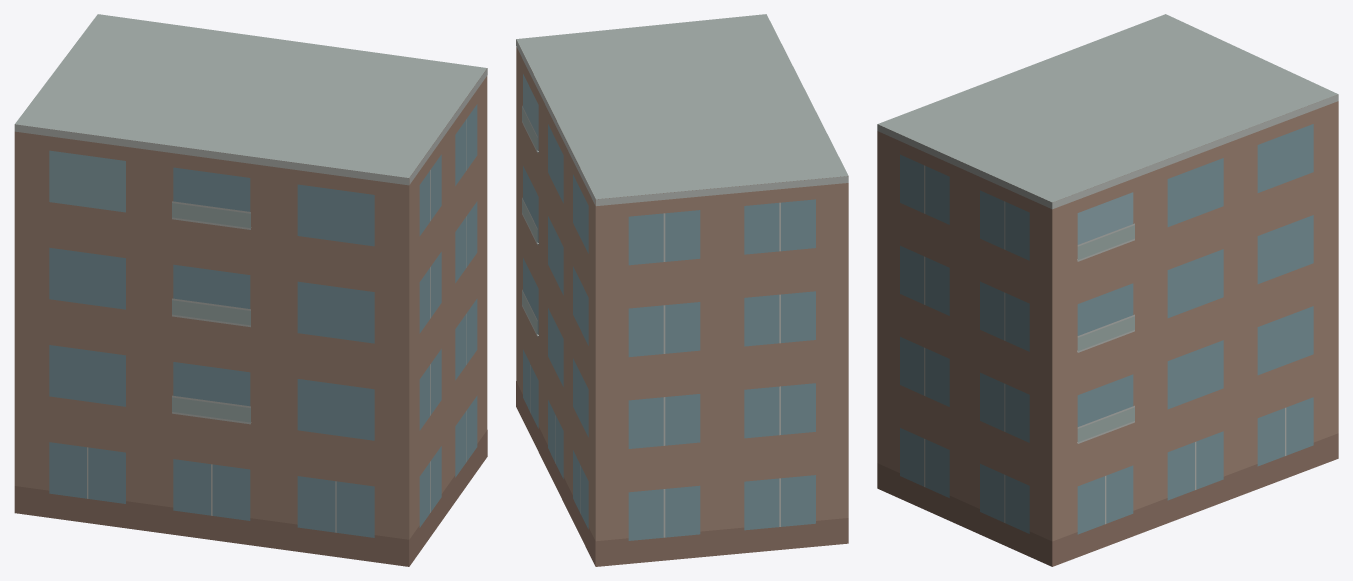
The model's file is survey-upis-32889433.glb.
3 views of the same model, side by side, from view 1: azimuth 30°, elevation 25°; view 2: azimuth 150°, elevation 25°; view 3: azimuth 270°, elevation 25° (orthographic). The views are drawn at different scales.
Parts seen in each view (by area): view 1: survey-upis-32889433.tmp; view 2: survey-upis-32889433.tmp; view 3: survey-upis-32889433.tmp.
Part boxes in pixels (x1=…): survey-upis-32889433.tmp: x1=14, y1=14, x2=487, y2=566; survey-upis-32889433.tmp: x1=516, y1=14, x2=848, y2=566; survey-upis-32889433.tmp: x1=877, y1=14, x2=1338, y2=566.
Size of the model in its own units: 14.43 by 13 by 14.92.
